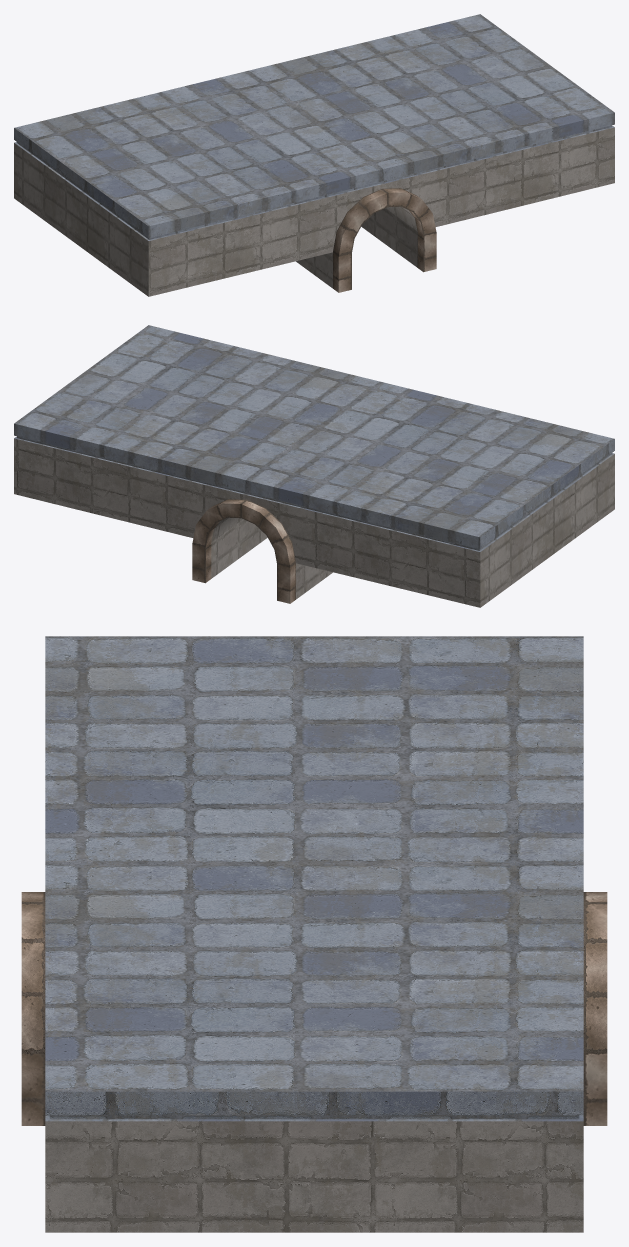
The model's file is SewerSet2_12m.fbx.
3 views of the same model, one above another, from view 1: azimuth 30°, elevation 25°; view 2: azimuth 150°, elevation 25°; view 3: azimuth 270°, elevation 25° (orthographic). The views are drawn at different scales.
Parts seen in each view (by area): view 1: Box092; view 2: Box092; view 3: Box092.
Boxes of the visible parts, bbox=[...] form: Box092: bbox=[14, 14, 614, 296]; Box092: bbox=[14, 325, 614, 607]; Box092: bbox=[21, 636, 607, 1232].
Size of the model in its own units: 2500 by 549 by 1359.
